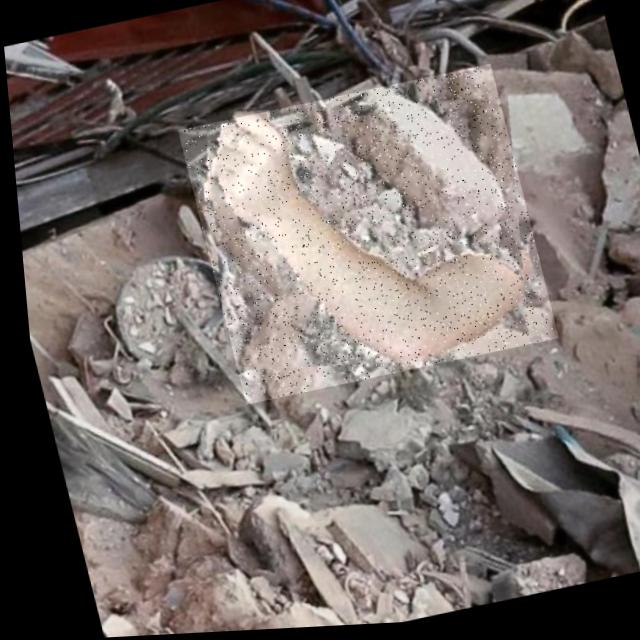Person in Rubble: (171, 67, 555, 409)
